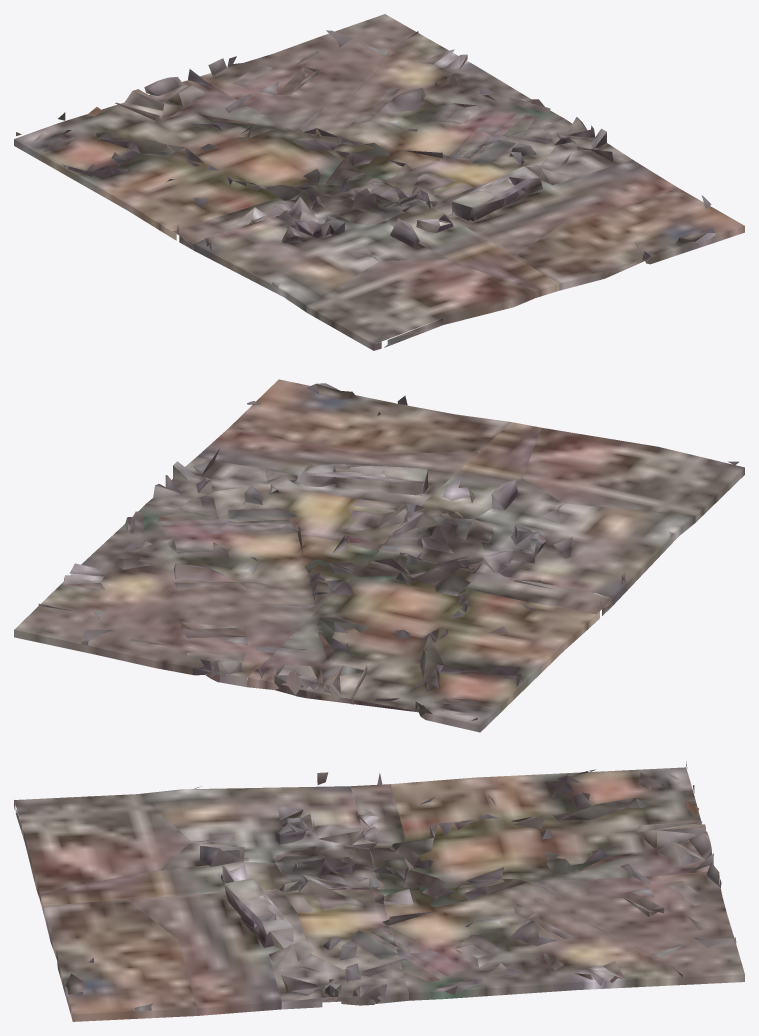
3 views of the same model, one above another, from view 1: azimuth 30°, elevation 25°; view 2: azimuth 150°, elevation 25°; view 3: azimuth 270°, elevation 25° (orthographic). The views are drawn at different scales.
Visible parts, largest first — view 1: Mesh_0; view 2: Mesh_0; view 3: Mesh_0.
Boxes of the visible parts, bbox=[...] form: Mesh_0: bbox=[14, 14, 744, 350]; Mesh_0: bbox=[14, 379, 744, 732]; Mesh_0: bbox=[14, 761, 744, 1021].
Bounding box in the file's own units: 1065 × 69.53 × 1318.
Materials: 1 (1 with a texture image).
